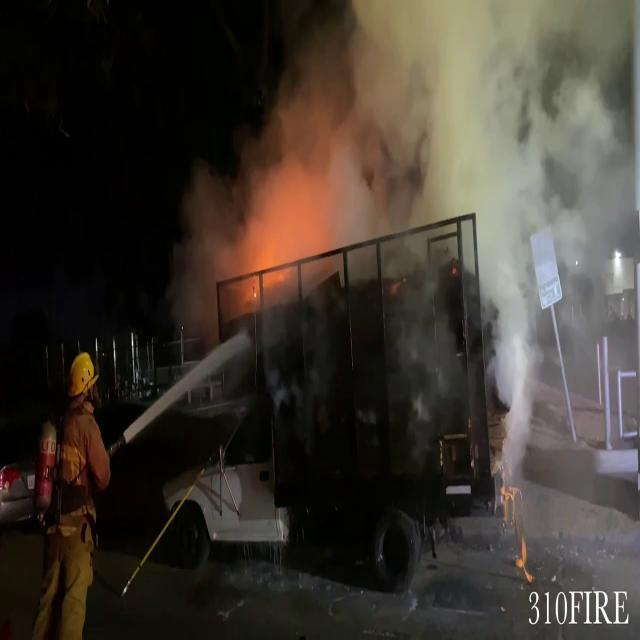Smoke: (405, 0, 628, 442), (164, 2, 368, 274)
